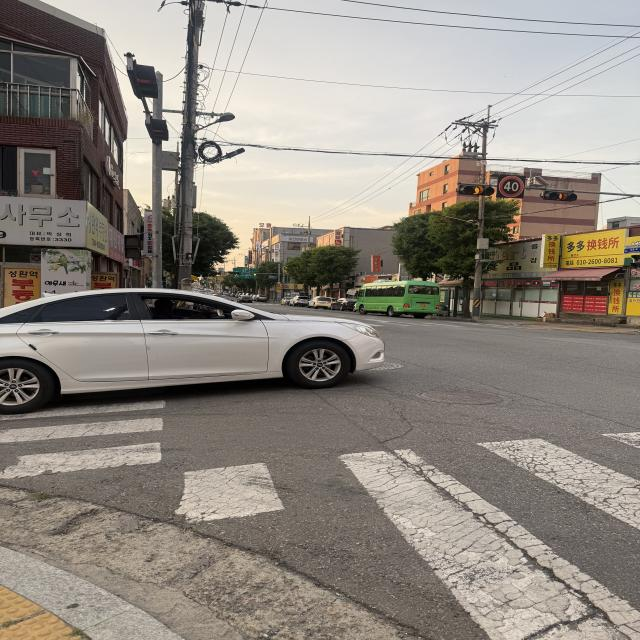car: (0, 284, 377, 414), (344, 281, 451, 323)
